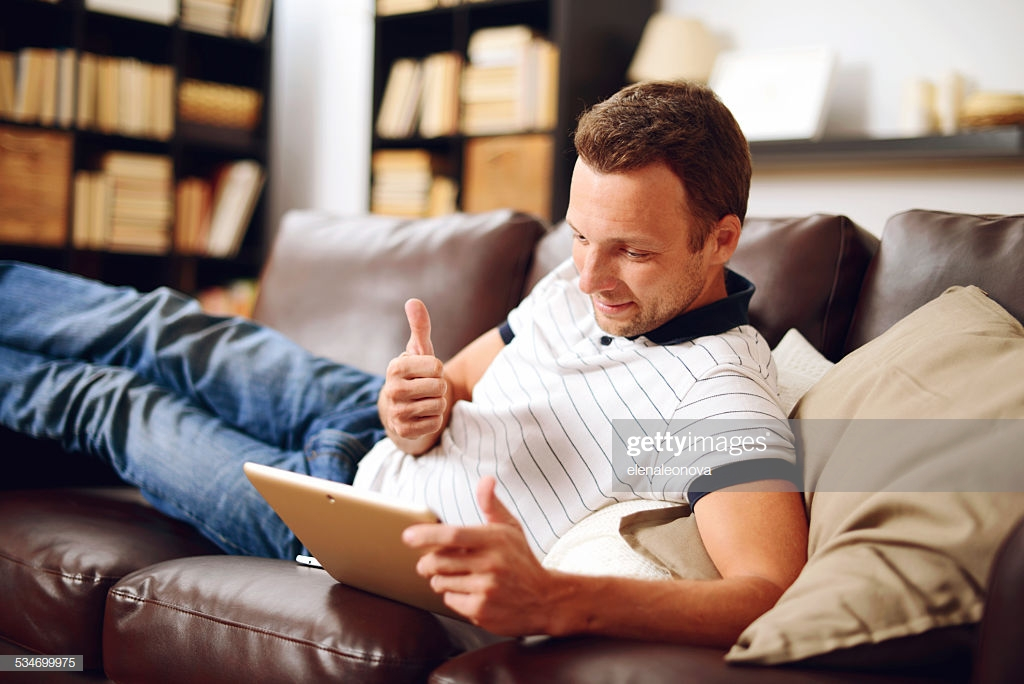thumbsup: (385, 298, 448, 441)
